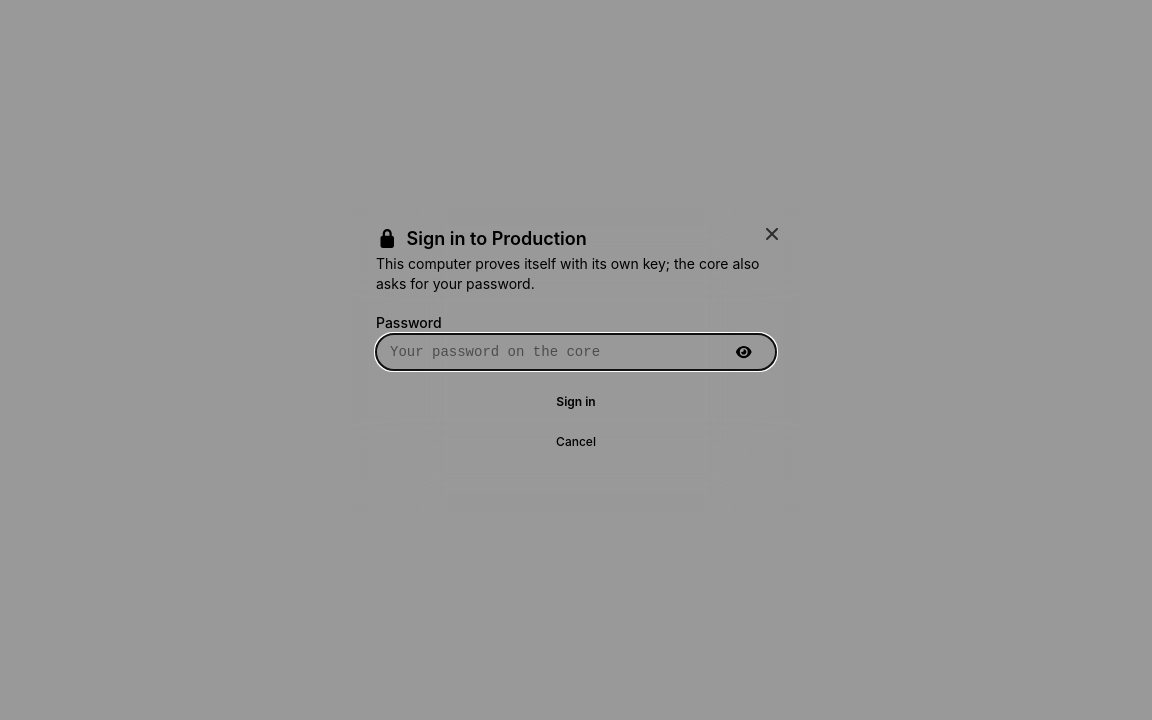
it: SignInDialog › says why a try failed and stays open for another
Type "not the password" into the password field labelled "Password".
click(576, 352); type("not the password")  # box [376, 334, 776, 370]
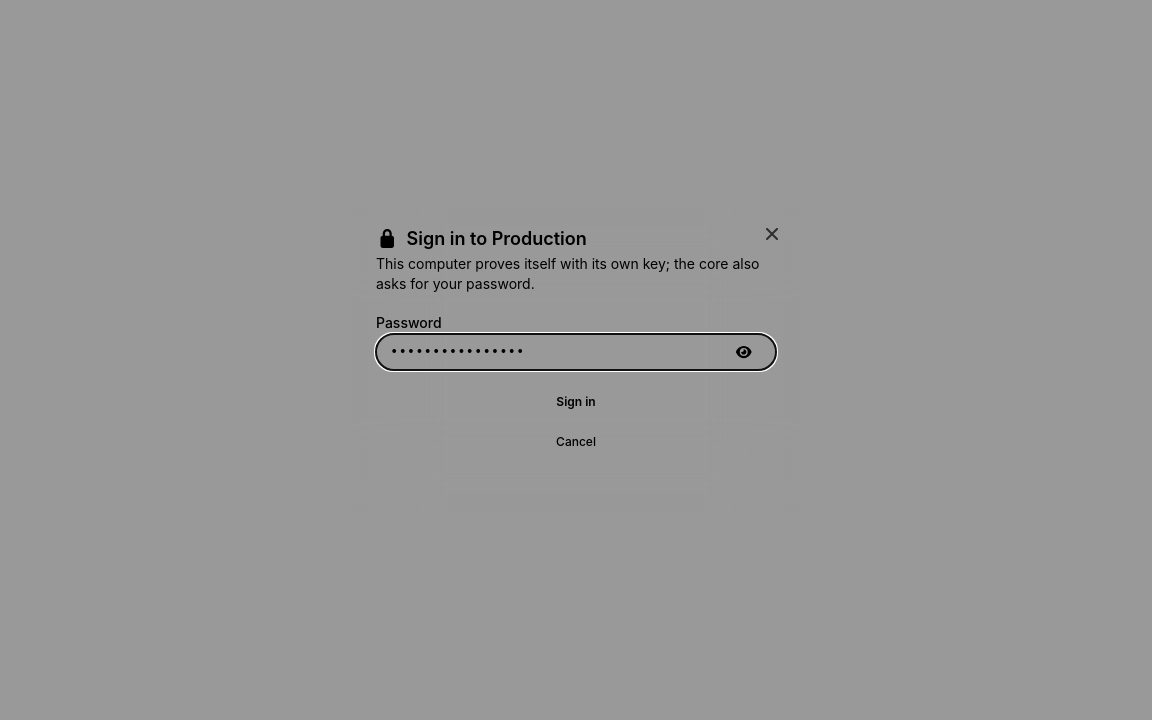
Click the button "Sign in".
click(576, 402)  # box [376, 386, 776, 418]
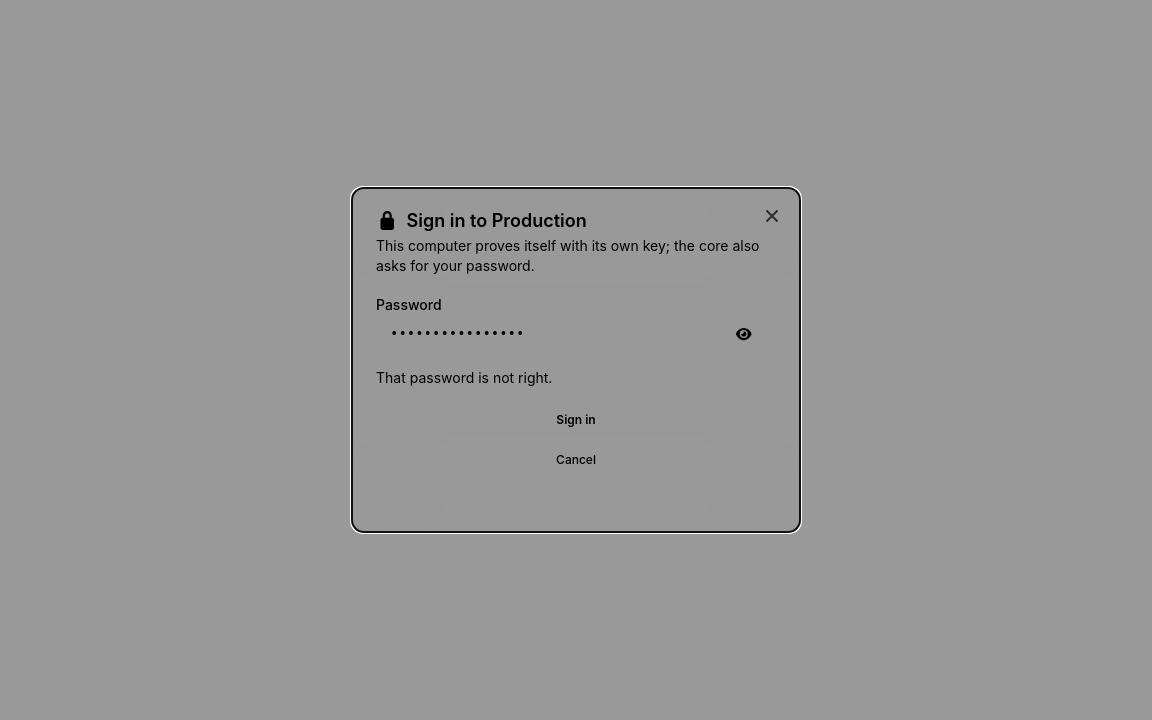
Expected: the message reads "That password is not right.", [376, 369, 552, 386]
